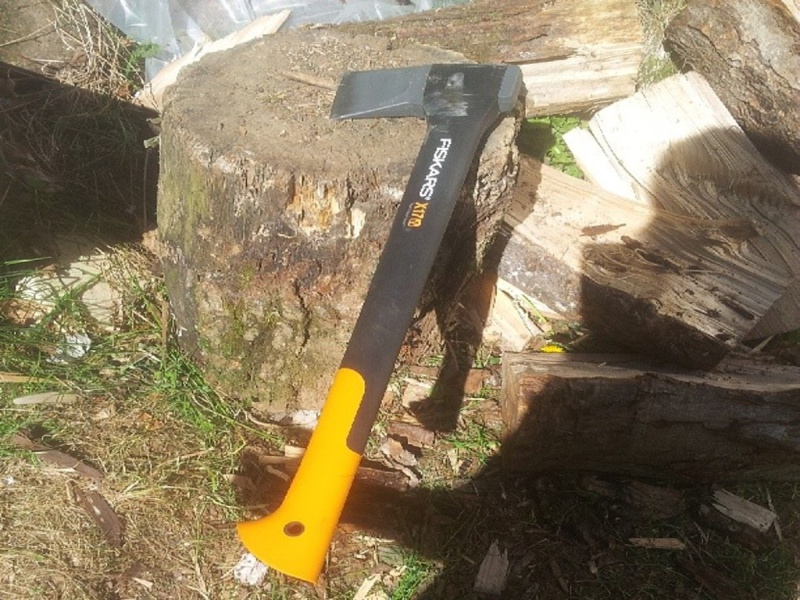axe: (229, 58, 526, 581)
